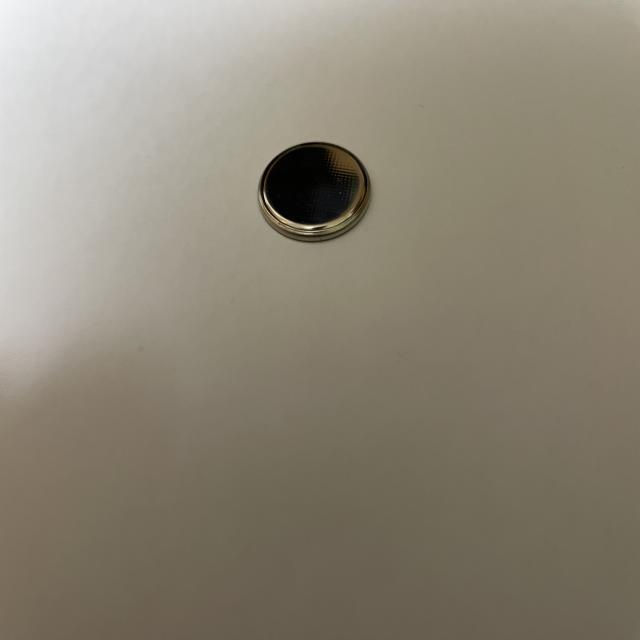COIN: (256, 140, 371, 244)
